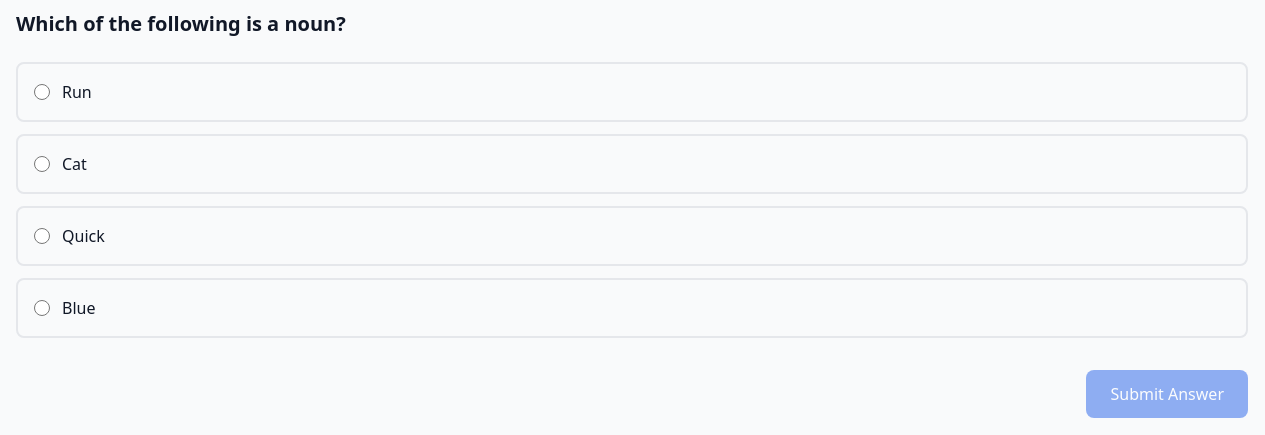
Test case: MultipleChoiceExercise › enables submit button when option is selected
Expected: the button "Submit Answer" is disabled, [1086,370,1248,418]
Click the radio button labelled "Cat".
click(42, 164)  # box [34,156,50,172]
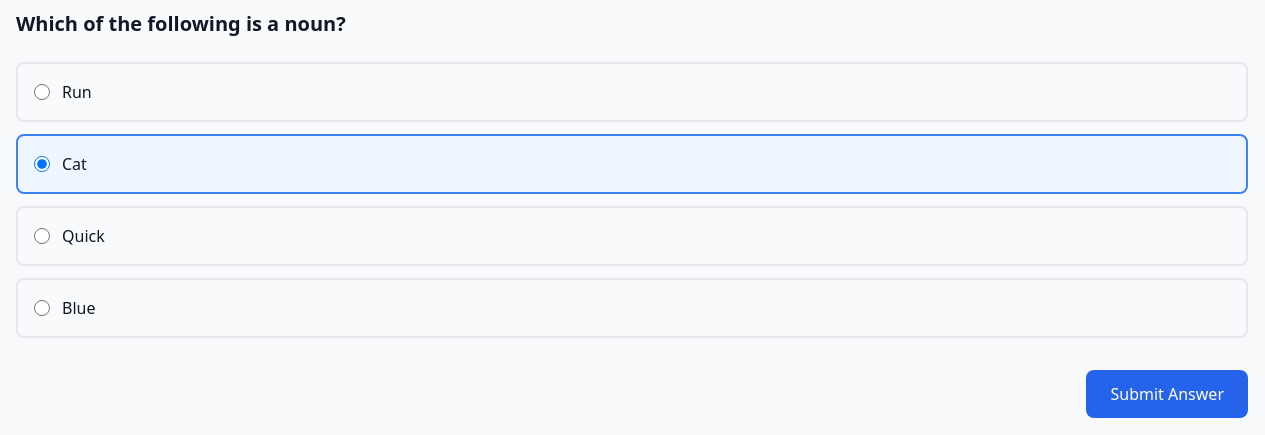
Expected: the button "Submit Answer" is enabled, [1086,370,1248,418]
